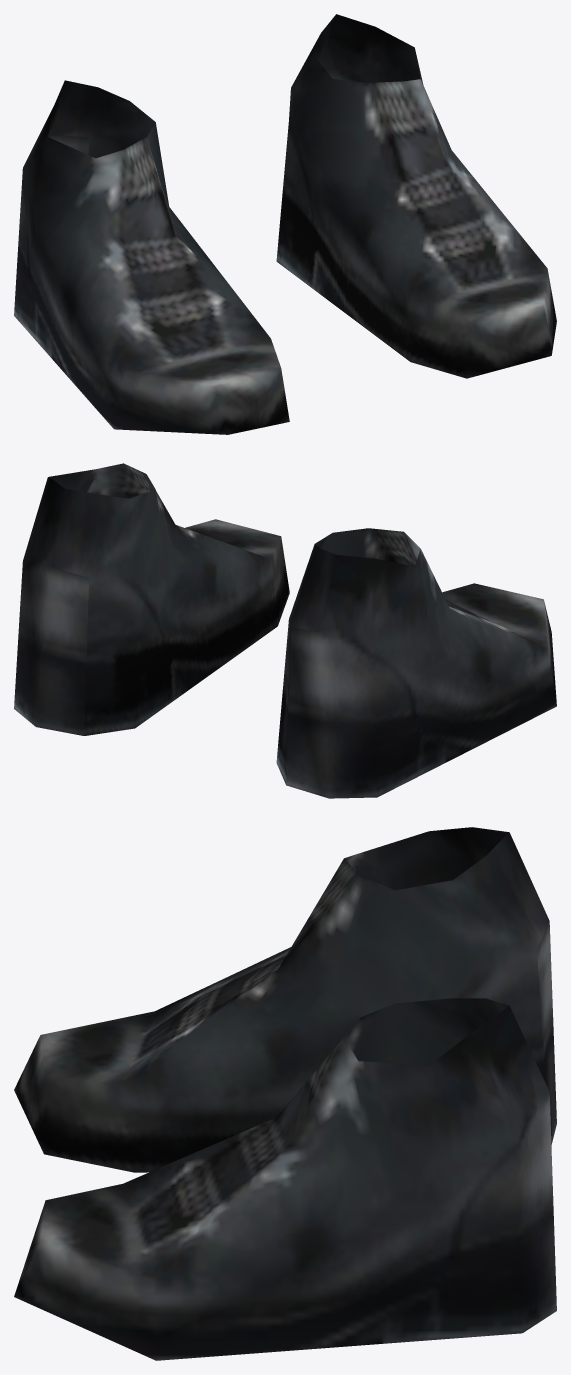
The model's file is m_Shoes3.glb.
3 renders of one model, top to bottom at view 1: azimuth 30°, elevation 25°; view 2: azimuth 150°, elevation 25°; view 3: azimuth 270°, elevation 25°, orthographic. The views are drawn at different scales.
Visible parts, largest first — view 1: Shoes3; view 2: Shoes3; view 3: Shoes3.
Boxes of the visible parts, x1,y1,x2,y2 form: Shoes3: (14, 14, 556, 434); Shoes3: (14, 463, 556, 798); Shoes3: (14, 827, 556, 1360).
Size of the model in its own units: 20.24 by 10.02 by 16.42.
Materials: 1 (1 with a texture image).
